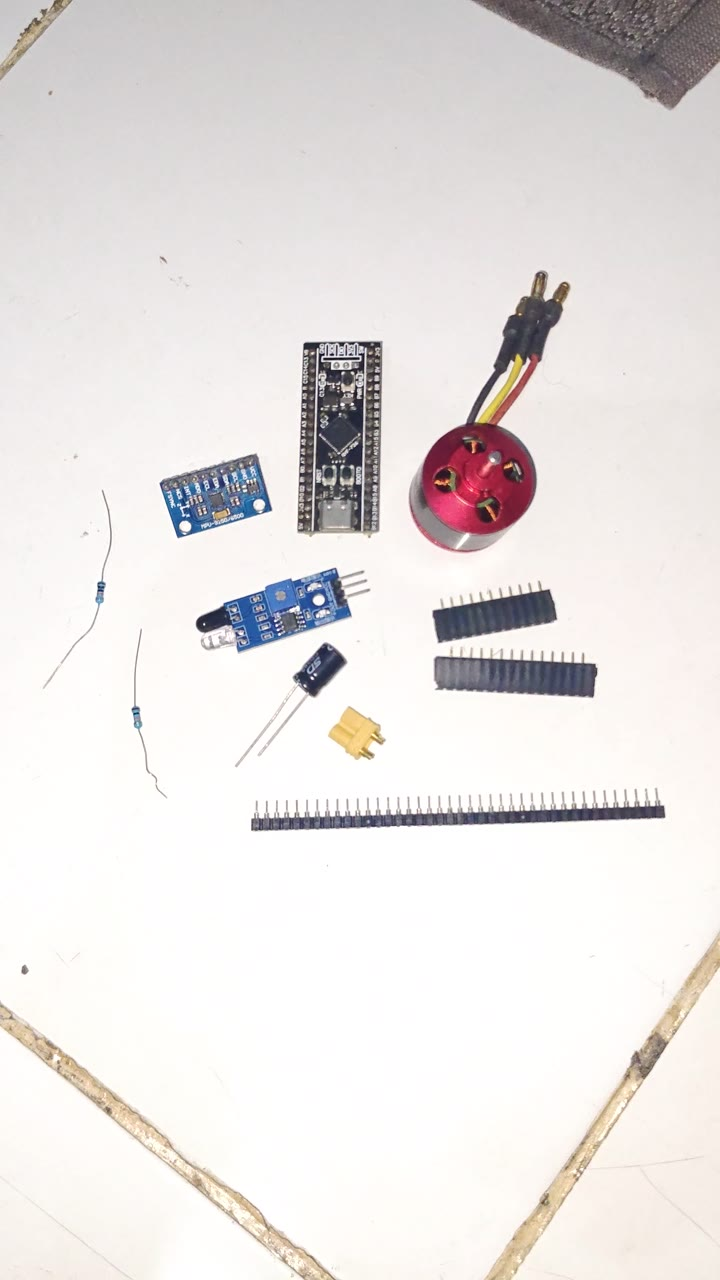bldc_motor: (401, 281, 567, 564)
elco_capacitor: (267, 662, 336, 735)
ir_sensor: (189, 585, 358, 686)
mpu6500: (154, 464, 265, 541)
pin_header: (409, 667, 593, 730), (230, 802, 661, 828), (427, 594, 561, 643)
resistor: (21, 506, 107, 730), (109, 651, 164, 845)
stm32f4: (295, 354, 366, 540)
xt30_female: (325, 722, 382, 761)
